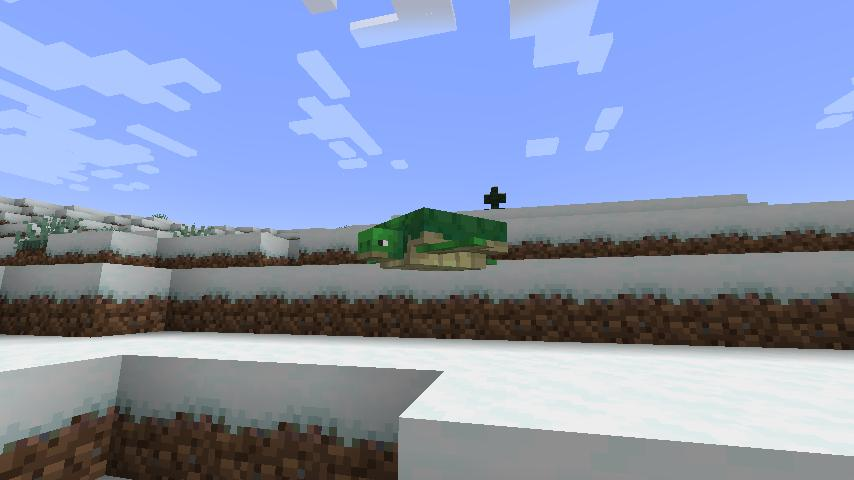turtle: (356, 206, 511, 272)
